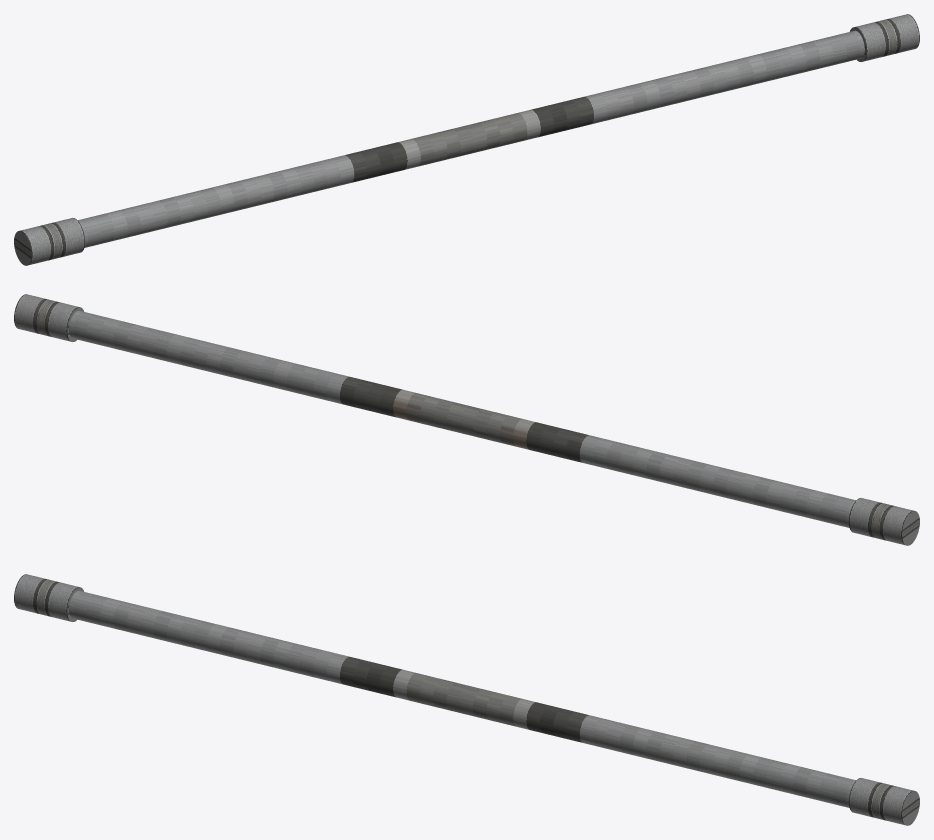
File: supply.glb
3 renders of one model, top to bottom at view 1: azimuth 30°, elevation 25°; view 2: azimuth 150°, elevation 25°; view 3: azimuth 330°, elevation 25°, orthographic.
Visible parts, largest first — view 1: barrel, flange (×2); view 2: barrel, flange (×2); view 3: barrel, flange (×2).
Part boxes in pixels (<box>): barrel: <box>78,30,864,247</box>; flange (×2): <box>14,14,919,265</box>; barrel: <box>69,310,855,527</box>; flange (×2): <box>14,294,919,545</box>; barrel: <box>69,590,855,807</box>; flange (×2): <box>14,574,919,825</box>.
Size of the model in its own units: 1 by 0.035 by 0.035.
Materials: 1 (1 with a texture image).
